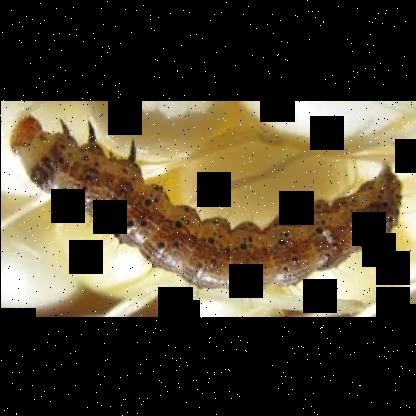oruga: (16, 115, 406, 298)
